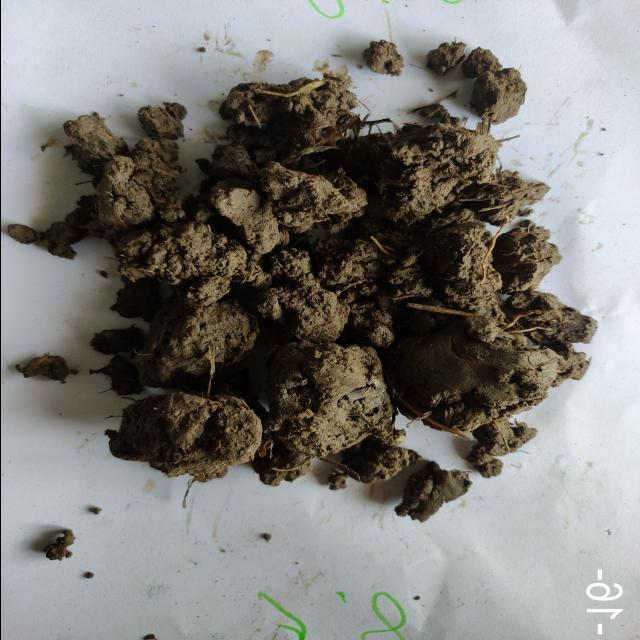soil: (150, 181, 512, 395)
